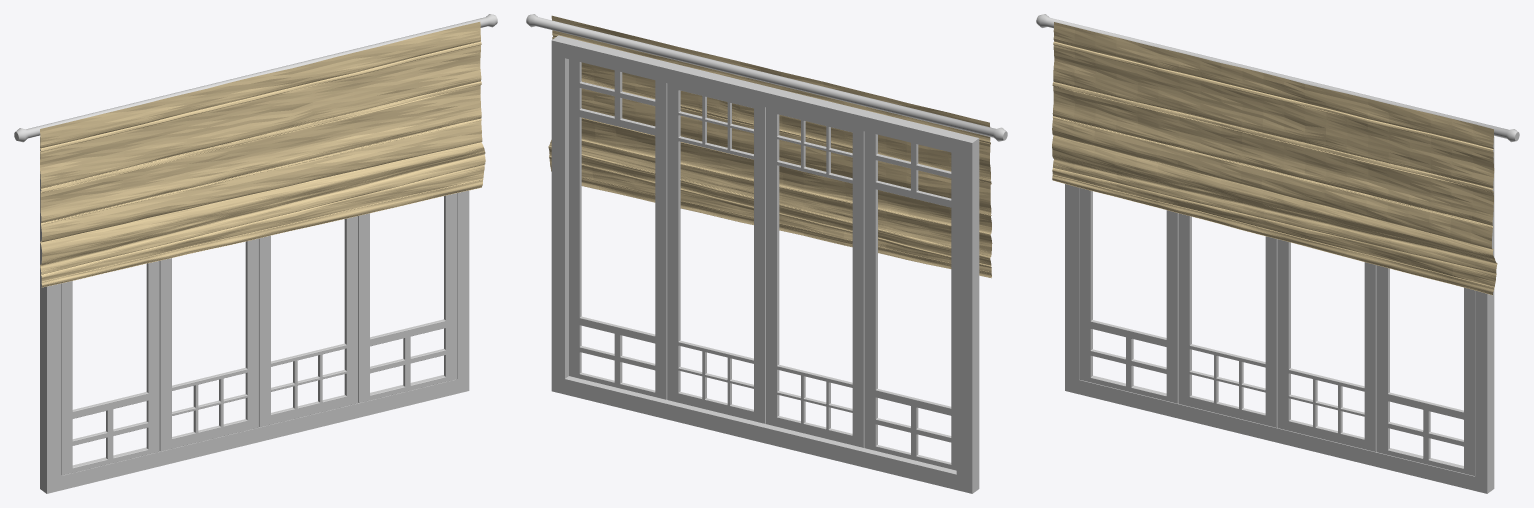
The model's file is window.FBX.
3 views of the same model, side by side, from view 1: azimuth 30°, elevation 25°; view 2: azimuth 150°, elevation 25°; view 3: azimuth 330°, elevation 25° (orthographic).
Visible parts, largest first — view 1: window; view 2: window; view 3: window.
Part boxes in pixels (x1=…): window: x1=14, y1=14, x2=497, y2=493; window: x1=526, y1=14, x2=1007, y2=493; window: x1=1036, y1=14, x2=1519, y2=493.
Size of the model in its own units: 159 by 6.52 by 117.
